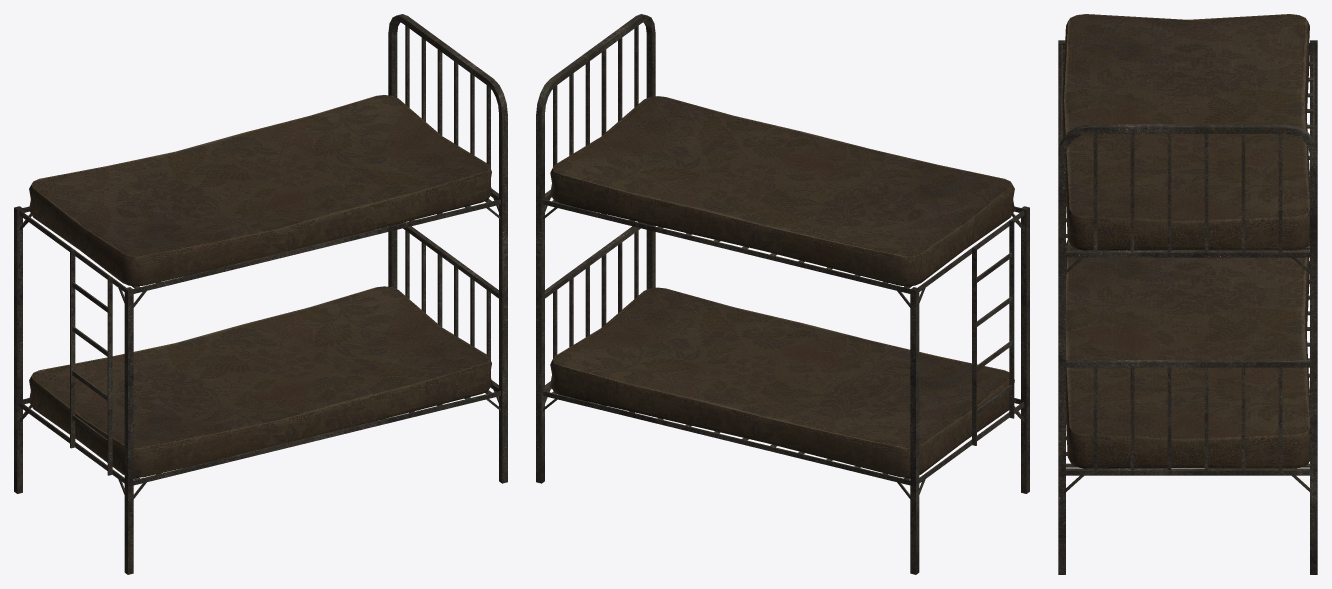
The model's file is bed_2.glb.
3 renders of one model, left to right at view 1: azimuth 30°, elevation 25°; view 2: azimuth 150°, elevation 25°; view 3: azimuth 270°, elevation 25°, orthographic. The views are drawn at different scales.
Parts seen in each view (by area): view 1: bed_2; view 2: bed_2; view 3: bed_2.
Boxes of the visible parts, x1,y1,x2,y2 form: bed_2: [14, 14, 507, 574]; bed_2: [536, 14, 1029, 574]; bed_2: [1058, 14, 1317, 574].
Size of the model in its own units: 2.72 by 2.67 by 1.4.
Materials: 2 (2 with a texture image).
